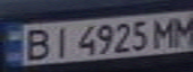2: (112, 19, 136, 54)
4: (75, 21, 100, 56)
5: (130, 17, 154, 52)
9: (93, 20, 118, 55)
B: (18, 26, 54, 62)
I: (48, 24, 75, 58)
M: (148, 15, 184, 48), (169, 12, 193, 47)
